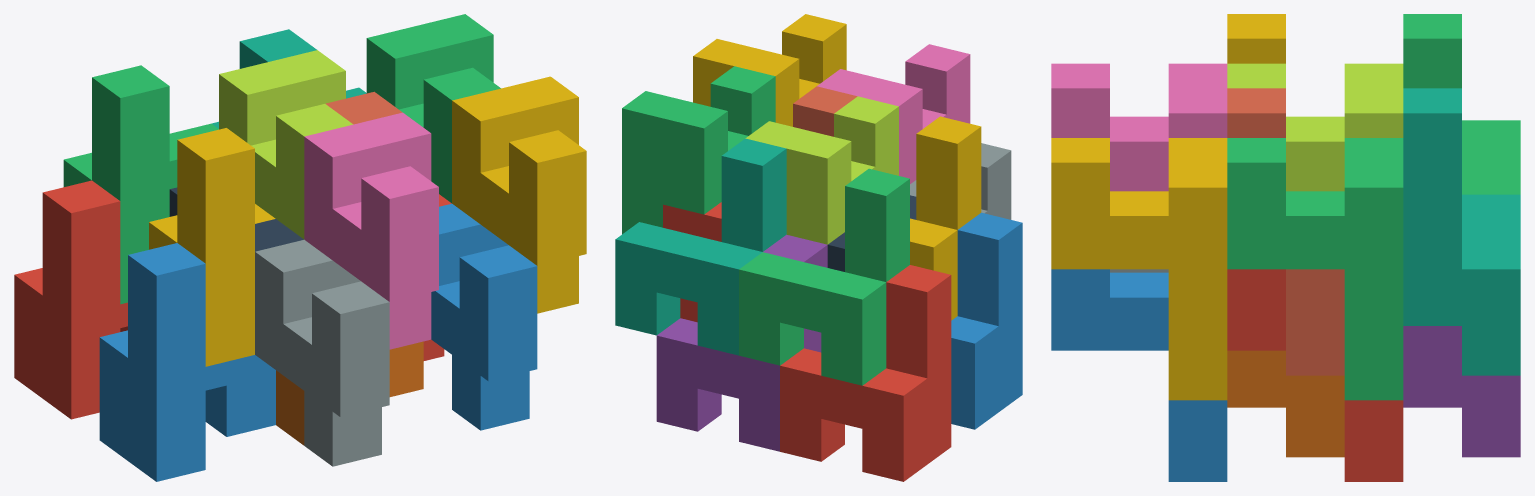
The model's file is tiling.obj.
3 renders of one model, left to right at view 1: azimuth 30°, elevation 25°; view 2: azimuth 150°, elevation 25°; view 3: azimuth 270°, elevation 25°, orthographic. The views are drawn at different scales.
Parts seen in each view (by area): view 1: copy_1_domain_2, copy_2_domain_4, copy_2_domain_8, copy_2_domain_2, copy_1_domain_1, copy_2_domain_6, copy_1_domain_4, copy_1_domain_3, copy_2_domain_3, copy_2_domain_7, copy_1_domain_6, copy_1_domain_7 (+2 smaller); view 2: copy_1_domain_1, copy_1_domain_3, copy_1_domain_7, copy_2_domain_7, copy_1_domain_2, copy_1_domain_5, copy_2_domain_3, copy_1_domain_4, copy_2_domain_8, copy_2_domain_4, copy_2_domain_2, copy_1_domain_8 (+2 smaller); view 3: copy_2_domain_7, copy_2_domain_8, copy_1_domain_7, copy_2_domain_6, copy_2_domain_4, copy_2_domain_3, copy_2_domain_5, copy_1_domain_5, copy_1_domain_8, copy_1_domain_3, copy_1_domain_6, copy_1_domain_4.
Boxes of the visible parts, <box> form: copy_1_domain_2: <box>99,243,275,481</box>; copy_2_domain_4: <box>304,112,438,349</box>; copy_2_domain_8: <box>452,76,586,313</box>; copy_2_domain_2: <box>255,239,389,466</box>; copy_1_domain_1: <box>14,180,127,419</box>; copy_2_domain_6: <box>431,203,537,430</box>; copy_1_domain_4: <box>149,128,275,366</box>; copy_1_domain_3: <box>63,65,218,304</box>; copy_2_domain_3: <box>219,50,353,239</box>; copy_2_domain_7: <box>366,14,500,203</box>; copy_1_domain_6: <box>276,341,423,445</box>; copy_1_domain_7: <box>211,29,366,128</box>; copy_1_domain_1: <box>780,265,951,481</box>; copy_1_domain_3: <box>739,168,909,385</box>; copy_1_domain_7: <box>615,138,786,355</box>; copy_2_domain_7: <box>622,66,775,234</box>; copy_1_domain_2: <box>951,212,1022,429</box>; copy_1_domain_5: <box>656,234,827,451</box>; copy_2_domain_3: <box>745,96,898,244</box>; copy_1_domain_4: <box>910,116,981,320</box>; copy_2_domain_8: <box>693,14,846,126</box>; copy_2_domain_4: <box>817,44,970,183</box>; copy_2_domain_2: <box>910,143,1011,219</box>; copy_1_domain_8: <box>793,86,857,136</box>; copy_2_domain_7: <box>1227,138,1403,400</box>; copy_2_domain_8: <box>1051,138,1227,400</box>; copy_1_domain_7: <box>1403,88,1520,375</box>; copy_2_domain_6: <box>1051,269,1227,481</box>; copy_2_domain_4: <box>1051,63,1227,191</box>; copy_2_domain_3: <box>1227,63,1403,191</box>; copy_2_domain_5: <box>1227,269,1403,481</box>; copy_1_domain_5: <box>1403,326,1520,457</box>; copy_1_domain_8: <box>1227,88,1344,375</box>; copy_1_domain_3: <box>1403,14,1520,194</box>; copy_1_domain_6: <box>1227,350,1344,457</box>; copy_1_domain_4: <box>1227,14,1285,63</box>.
Bounding box in the file's own units: 8 × 6 × 8.
